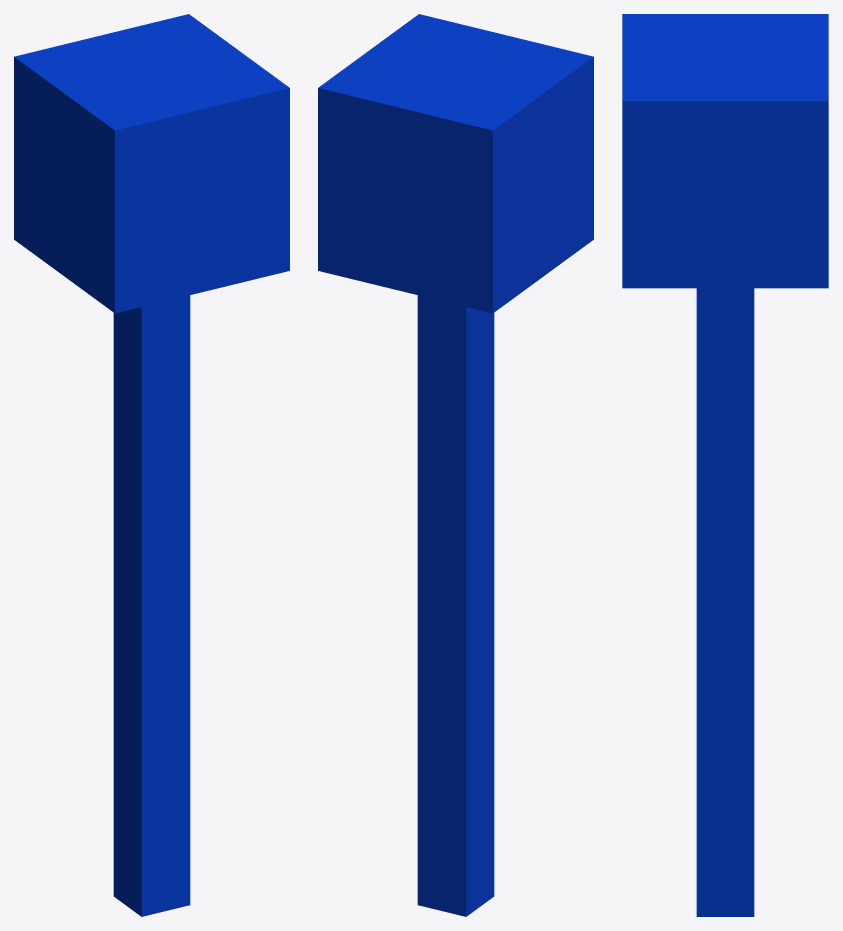
File: scale-gizmo-z.glb
3 views of the same model, side by side, from view 1: azimuth 30°, elevation 25°; view 2: azimuth 150°, elevation 25°; view 3: azimuth 270°, elevation 25° (orthographic). The views are drawn at different scales.
Visible parts, largest first — view 1: scale-gizmo-z; view 2: scale-gizmo-z; view 3: scale-gizmo-z.
Boxes of the visible parts, x1,y1,x2,y2 form: scale-gizmo-z: (14,14,289,916); scale-gizmo-z: (318,14,593,916); scale-gizmo-z: (622,14,828,916).
Bounding box in the file's own units: 0.72 × 3.26 × 0.72.
